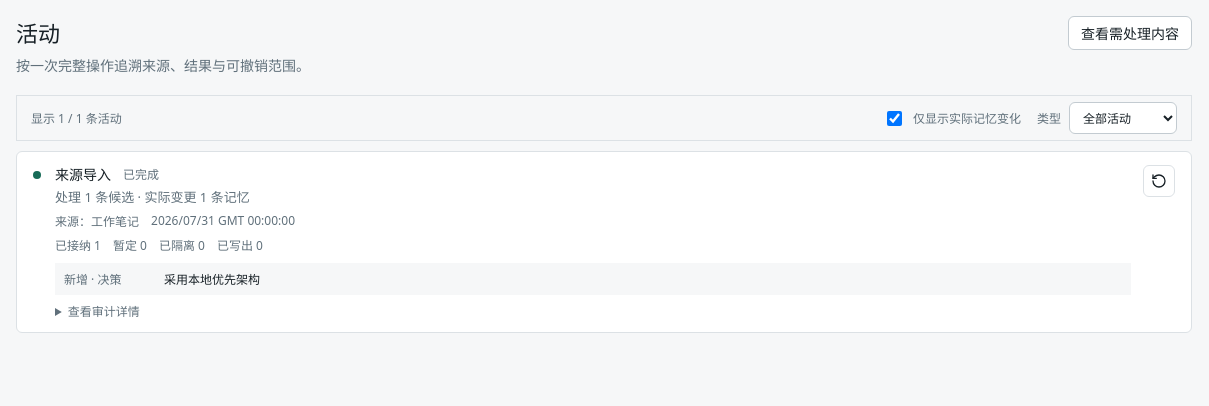
Test case: ActivityView › labels undo as undoing this import and reports a refresh failure after success
Click the button named "撤销本次导入". click: (1159, 181)
box: [1143,165,1175,197]
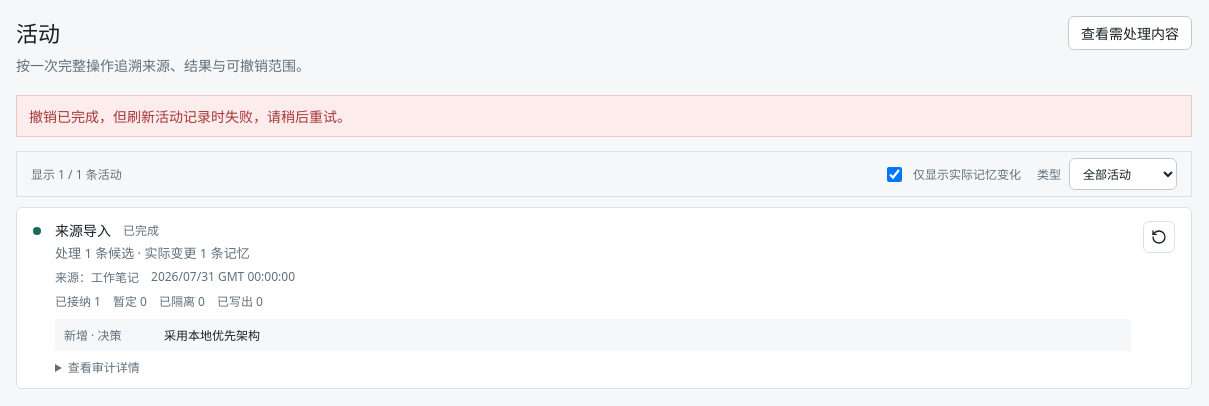
Expected: the text "撤销已完成，但刷新活动记录时失败" is shown, [29,107,351,126]
